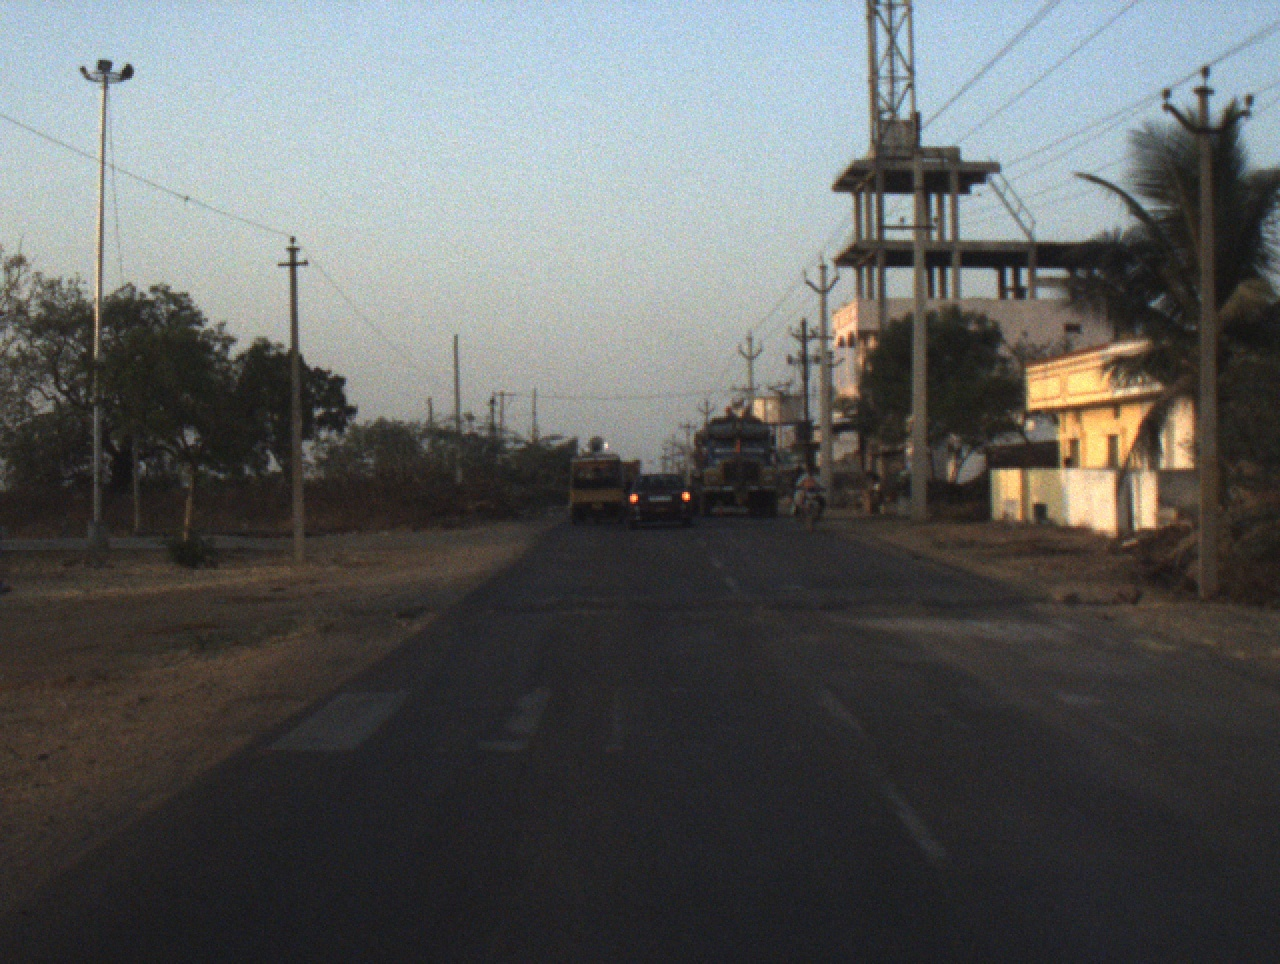autorickshaw: (564, 436, 629, 525)
car: (622, 468, 696, 530)
motorcycle: (793, 483, 829, 537)
person: (863, 474, 883, 513), (857, 468, 873, 504)
rider: (788, 460, 827, 528)
truck: (688, 402, 783, 523)
vehicle fallback: (617, 458, 644, 487)
